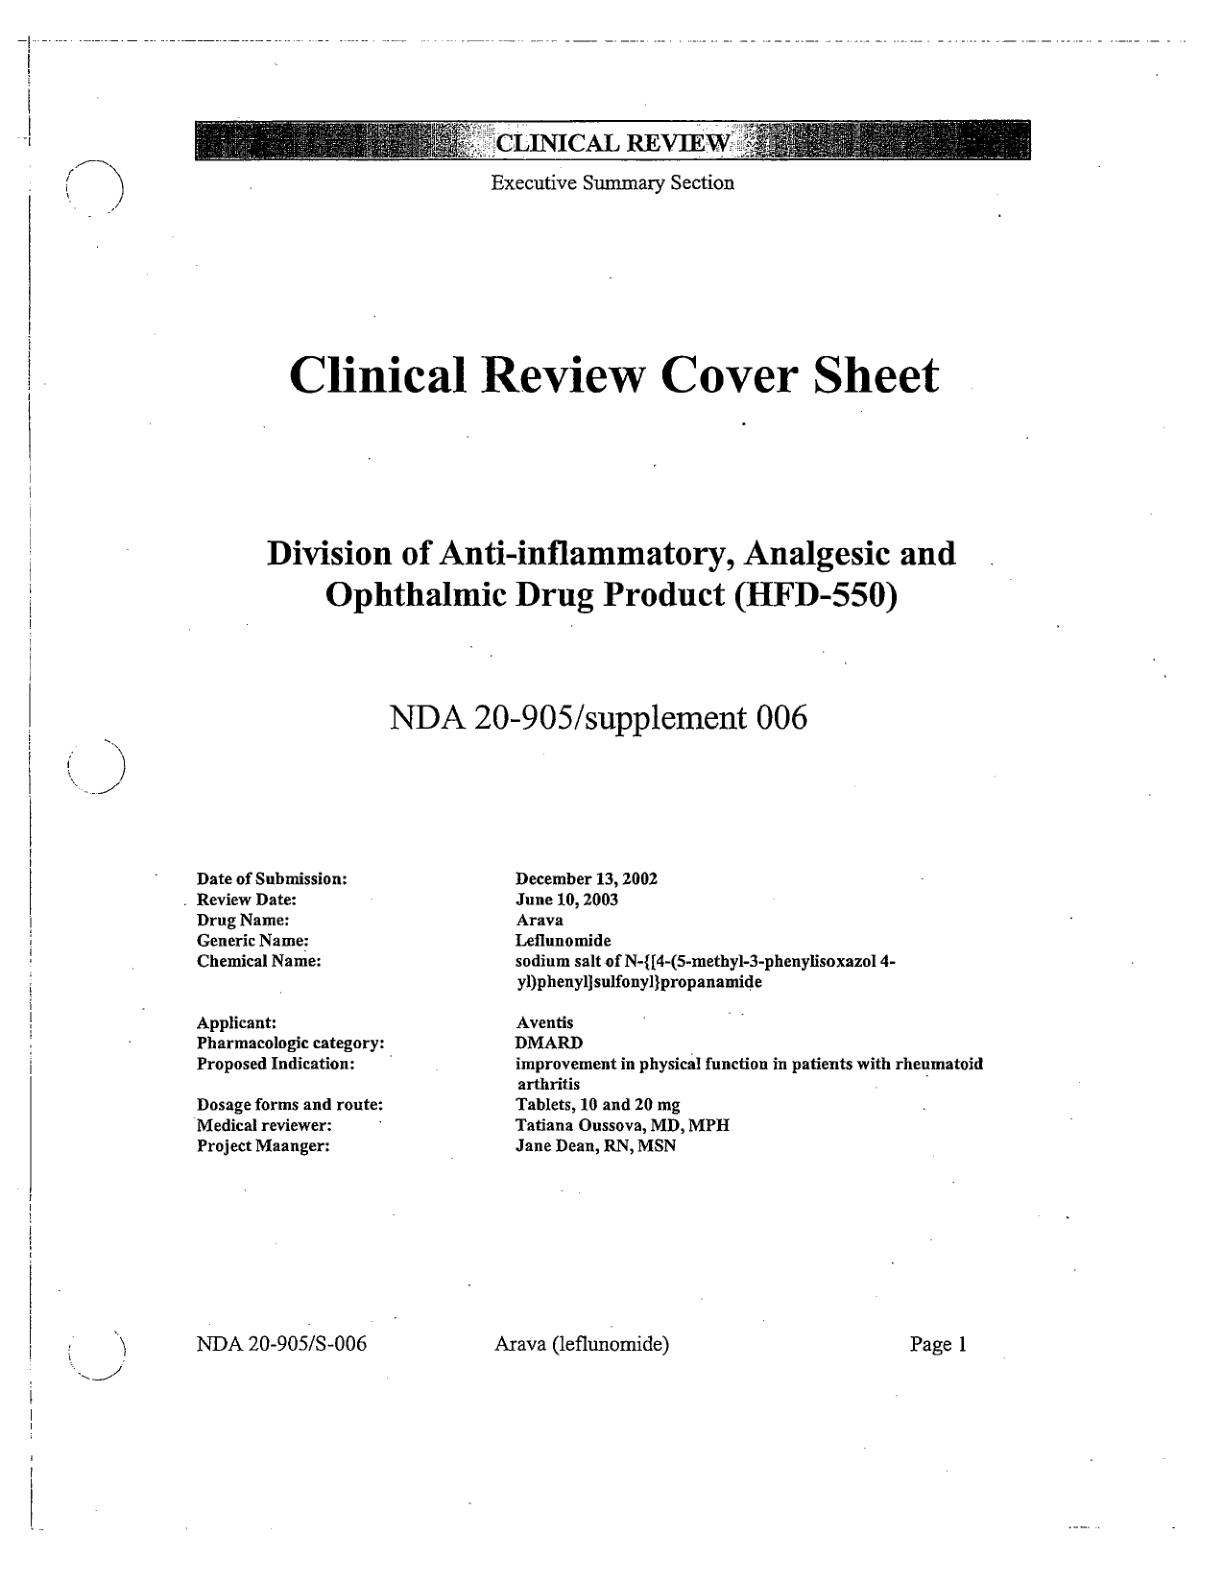nolines: (193, 868, 984, 1157)
